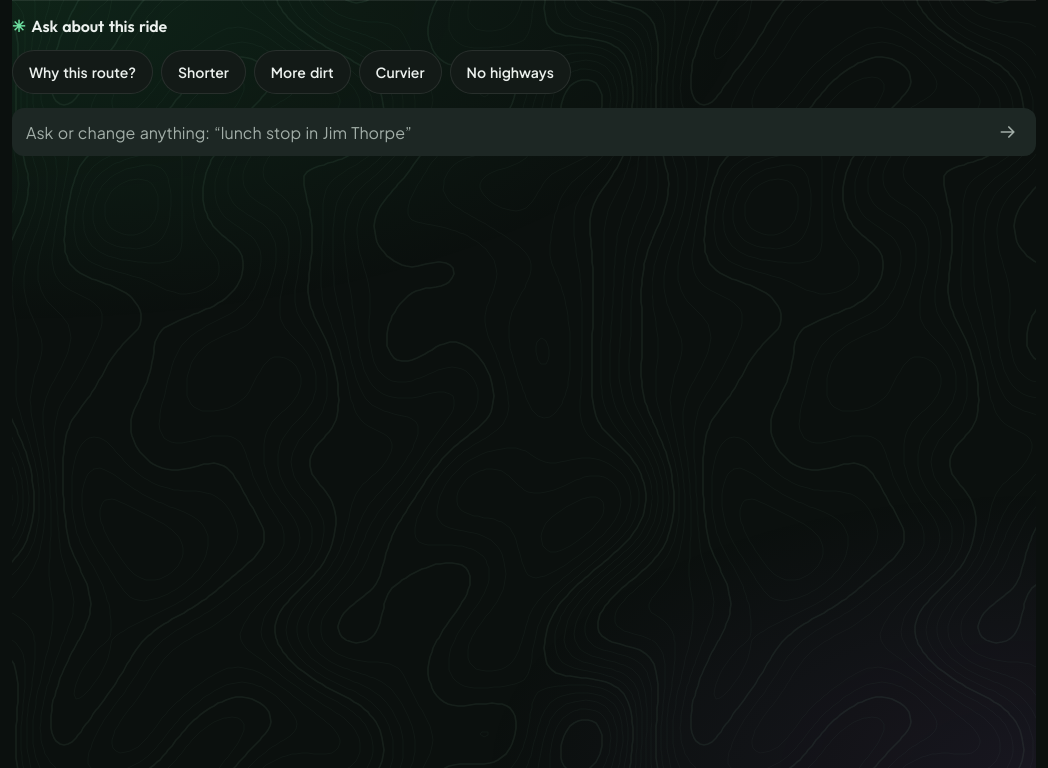
Test case: ask about this ride › lets the rider cancel an ask that came from the ride sheet
Click the button "Curvier" at (400, 72), box [359,50,442,94]
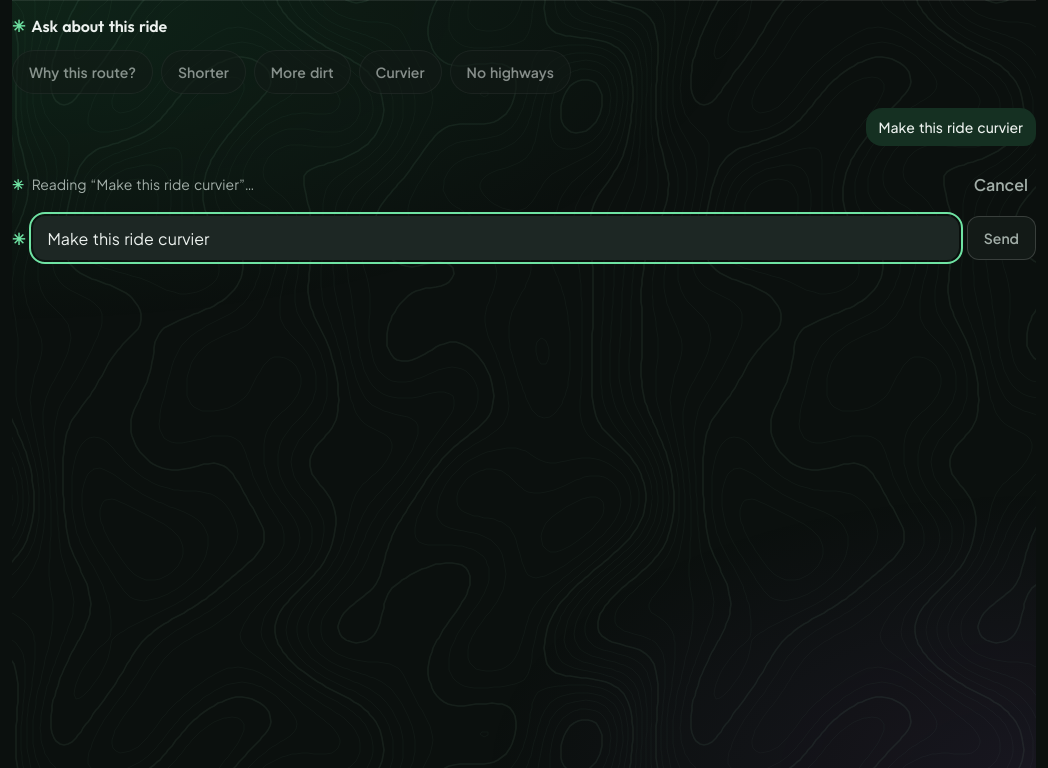
Click the button "Cancel" at (1001, 184), box [966,160,1036,208]
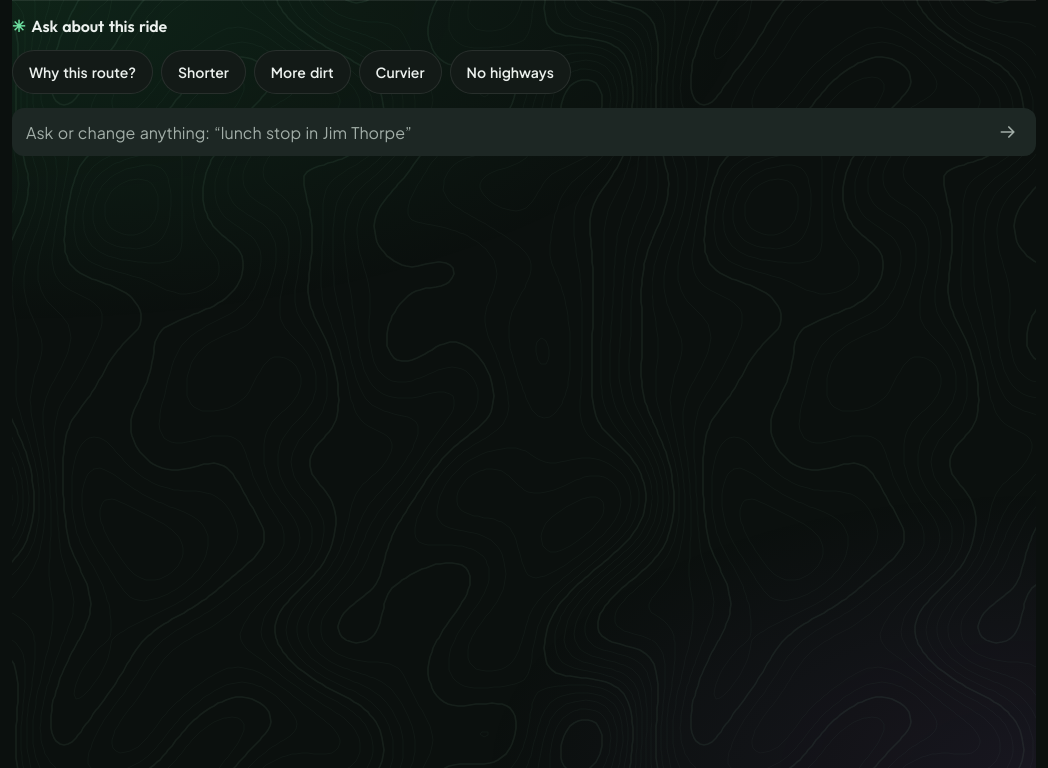
Expected: the message with test id "advisor-working" is gone
